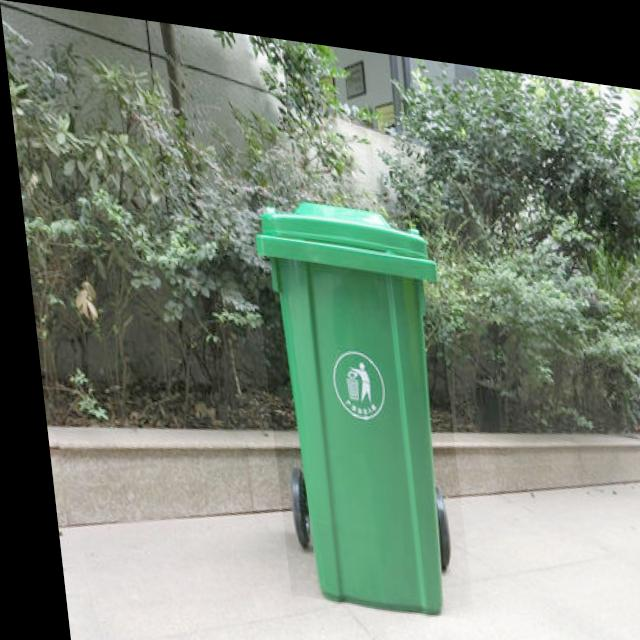garbage_bin: (243, 184, 461, 609)
